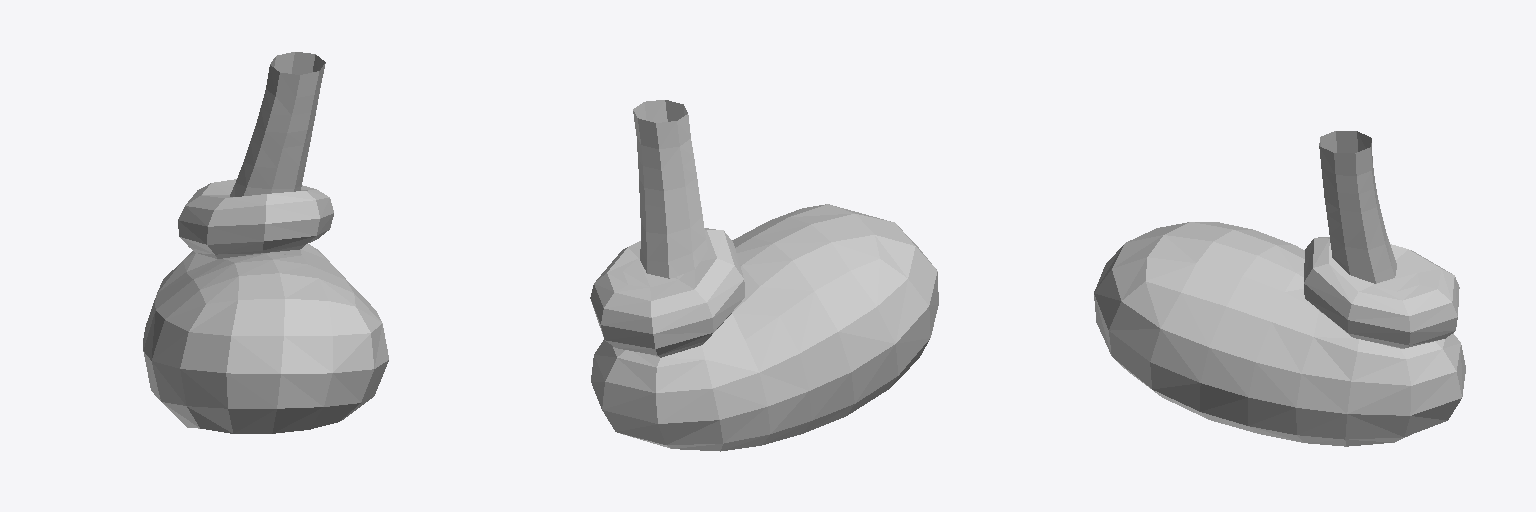
The model's file is piernader.obj.
3 views of the same model, side by side, from view 1: azimuth 30°, elevation 25°; view 2: azimuth 150°, elevation 25°; view 3: azimuth 270°, elevation 25° (orthographic).
Parts seen in each view (by area): view 1: animatemickey:MeshpolySurface7polySurface3polySurface10polySurfa; view 2: animatemickey:MeshpolySurface7polySurface3polySurface10polySurfa; view 3: animatemickey:MeshpolySurface7polySurface3polySurface10polySurfa.
Part boxes in pixels (x1,y1,x2,y2): animatemickey:MeshpolySurface7polySurface3polySurface10polySurfa: (143,52,388,433); animatemickey:MeshpolySurface7polySurface3polySurface10polySurfa: (590,100,938,451); animatemickey:MeshpolySurface7polySurface3polySurface10polySurfa: (1094,131,1465,446).
Size of the model in its own units: 0.1572 by 0.1906 by 0.2137.